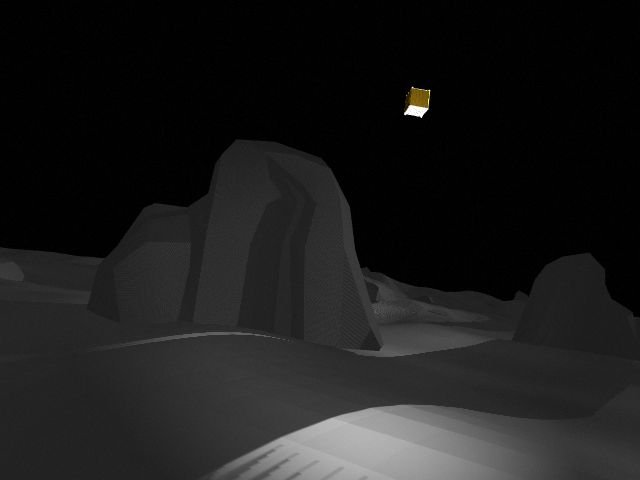cubesat: (399, 84, 435, 120)
